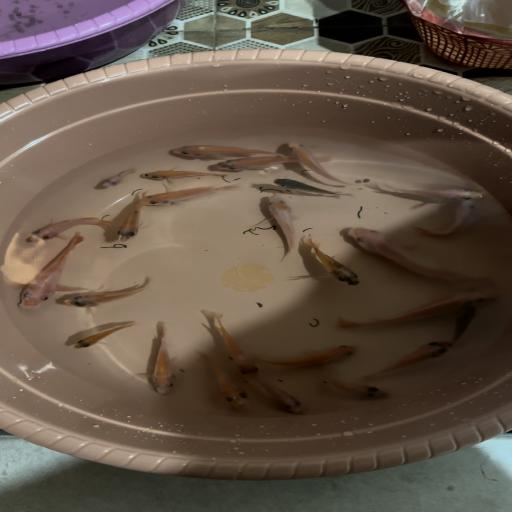nila: (344, 226, 483, 286), (333, 288, 501, 335), (9, 233, 89, 314), (298, 232, 370, 288), (360, 340, 454, 381), (280, 138, 358, 186), (207, 312, 263, 378), (254, 193, 308, 260), (140, 319, 186, 397), (192, 353, 254, 410), (59, 275, 156, 310), (207, 152, 335, 177), (413, 199, 484, 242), (17, 215, 120, 243), (368, 180, 494, 202), (257, 343, 359, 370), (66, 319, 143, 353), (314, 371, 395, 403), (137, 182, 239, 206), (266, 177, 362, 201), (112, 191, 154, 244), (258, 380, 314, 418), (161, 142, 283, 159), (137, 168, 228, 182), (94, 166, 140, 191), (450, 306, 480, 344)
